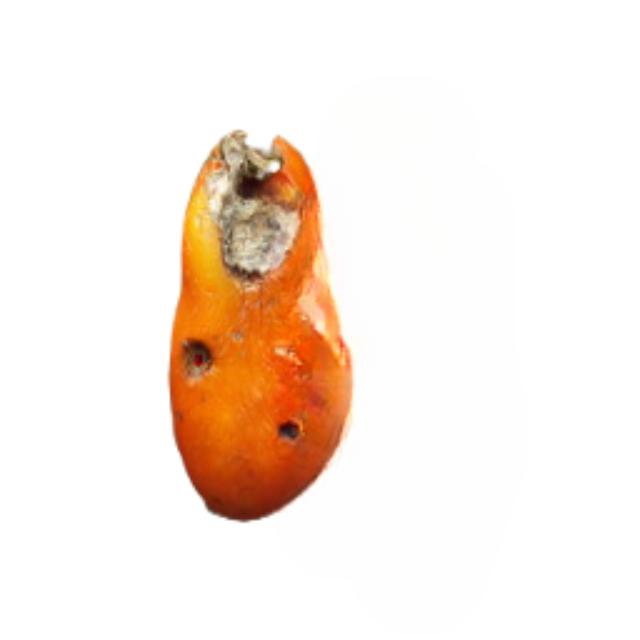defect: (157, 117, 361, 537)
